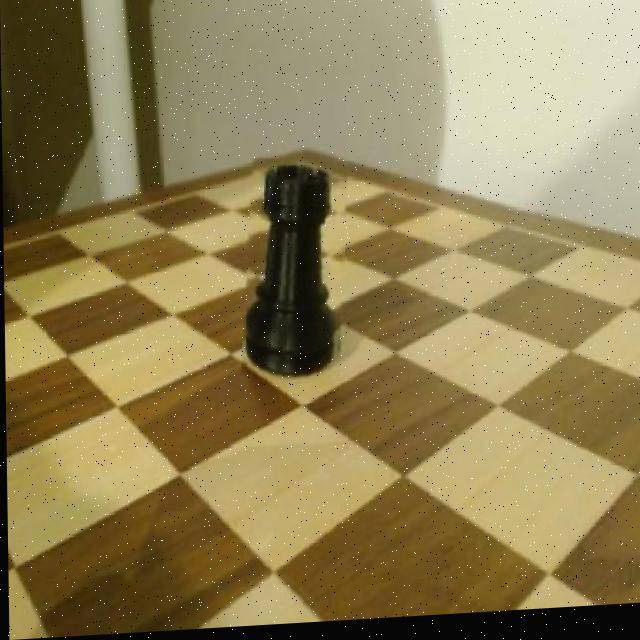black-queen: (242, 158, 348, 387)
